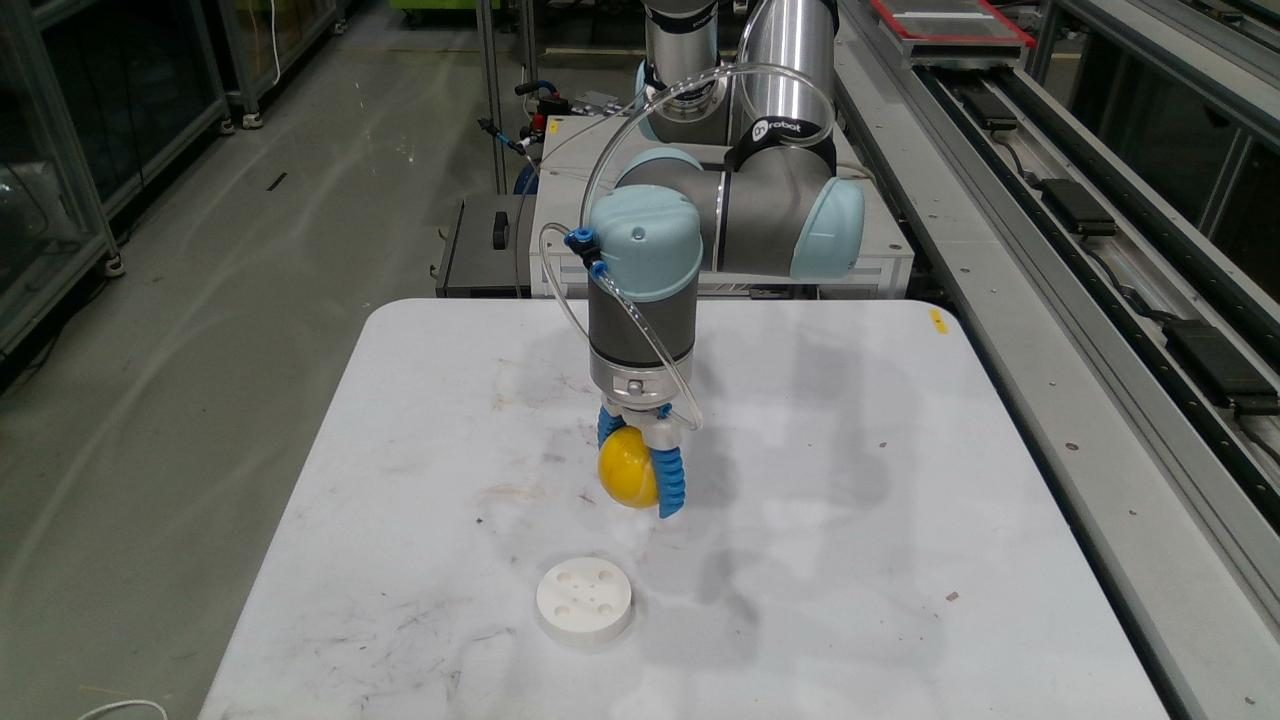UR5: (588, 0, 864, 452)
gripper_left: (596, 405, 625, 449)
gripper_right: (651, 446, 685, 518)
target: (535, 556, 634, 649), (597, 425, 659, 509)
